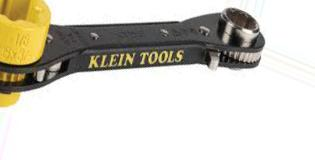wrench: (2, 1, 282, 160)
